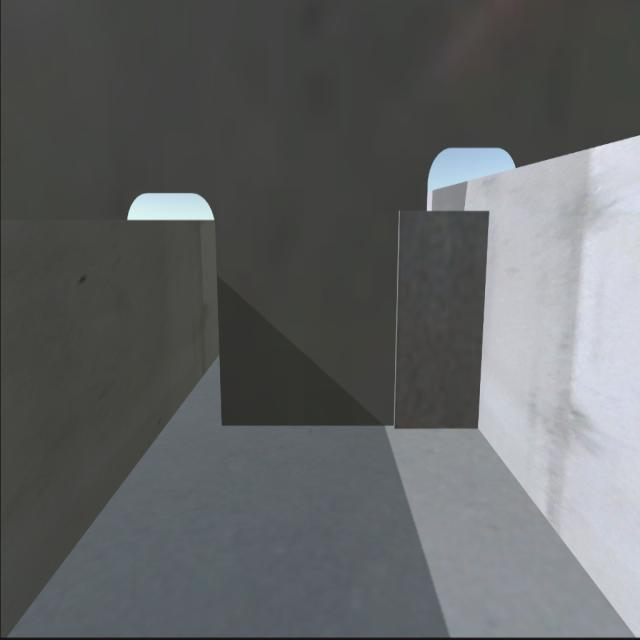fillet_yong_jeop_jang: (222, 414, 480, 438)
longi_yong_jeop_jang: (473, 206, 488, 430)
plate_CP01: (396, 210, 480, 427)
